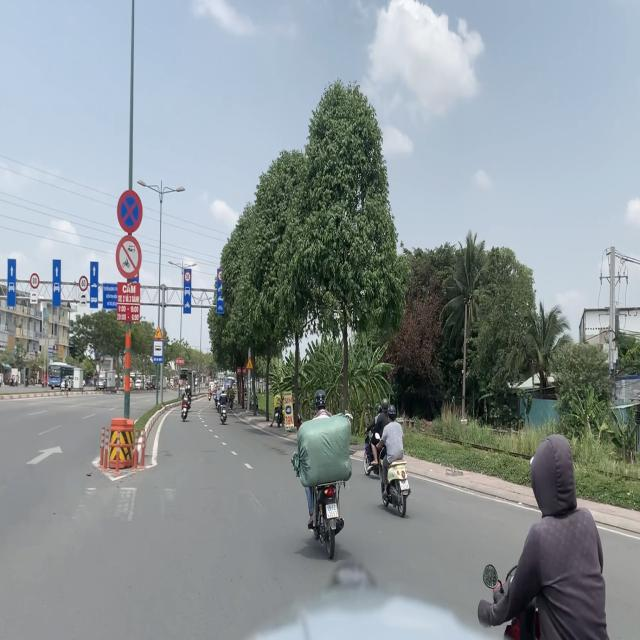Ben xe buyt: (152, 338, 164, 364)
Cam con lai: (116, 234, 142, 278)
Cam dung va do: (116, 188, 144, 235)
Nguoi di bo cat ngang: (245, 356, 254, 370)
Nguy hiem: (153, 324, 164, 339)
Toc do toi da: (78, 275, 89, 292), (30, 272, 40, 290), (184, 270, 191, 283)
